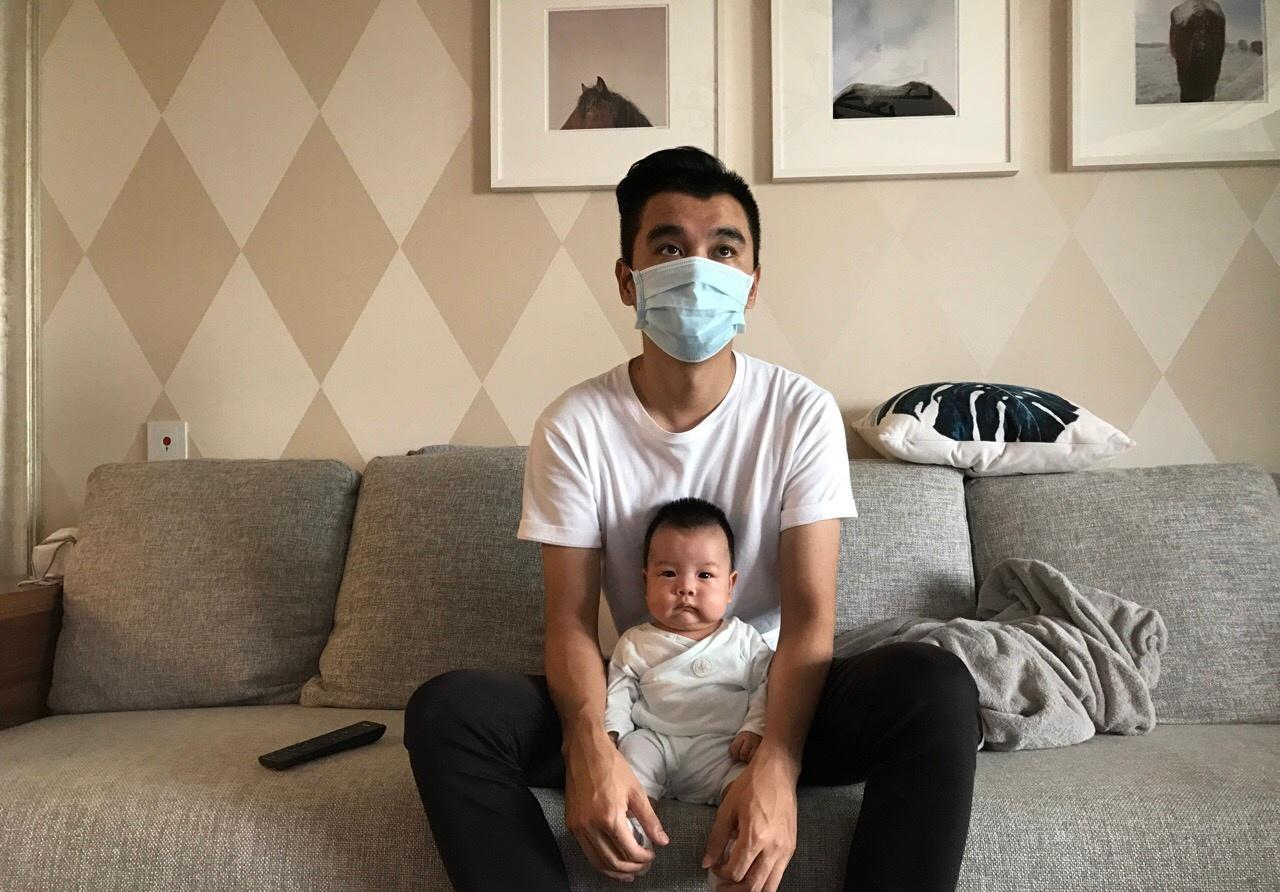NONE: (649, 553, 728, 627)
OK: (630, 223, 757, 350)
